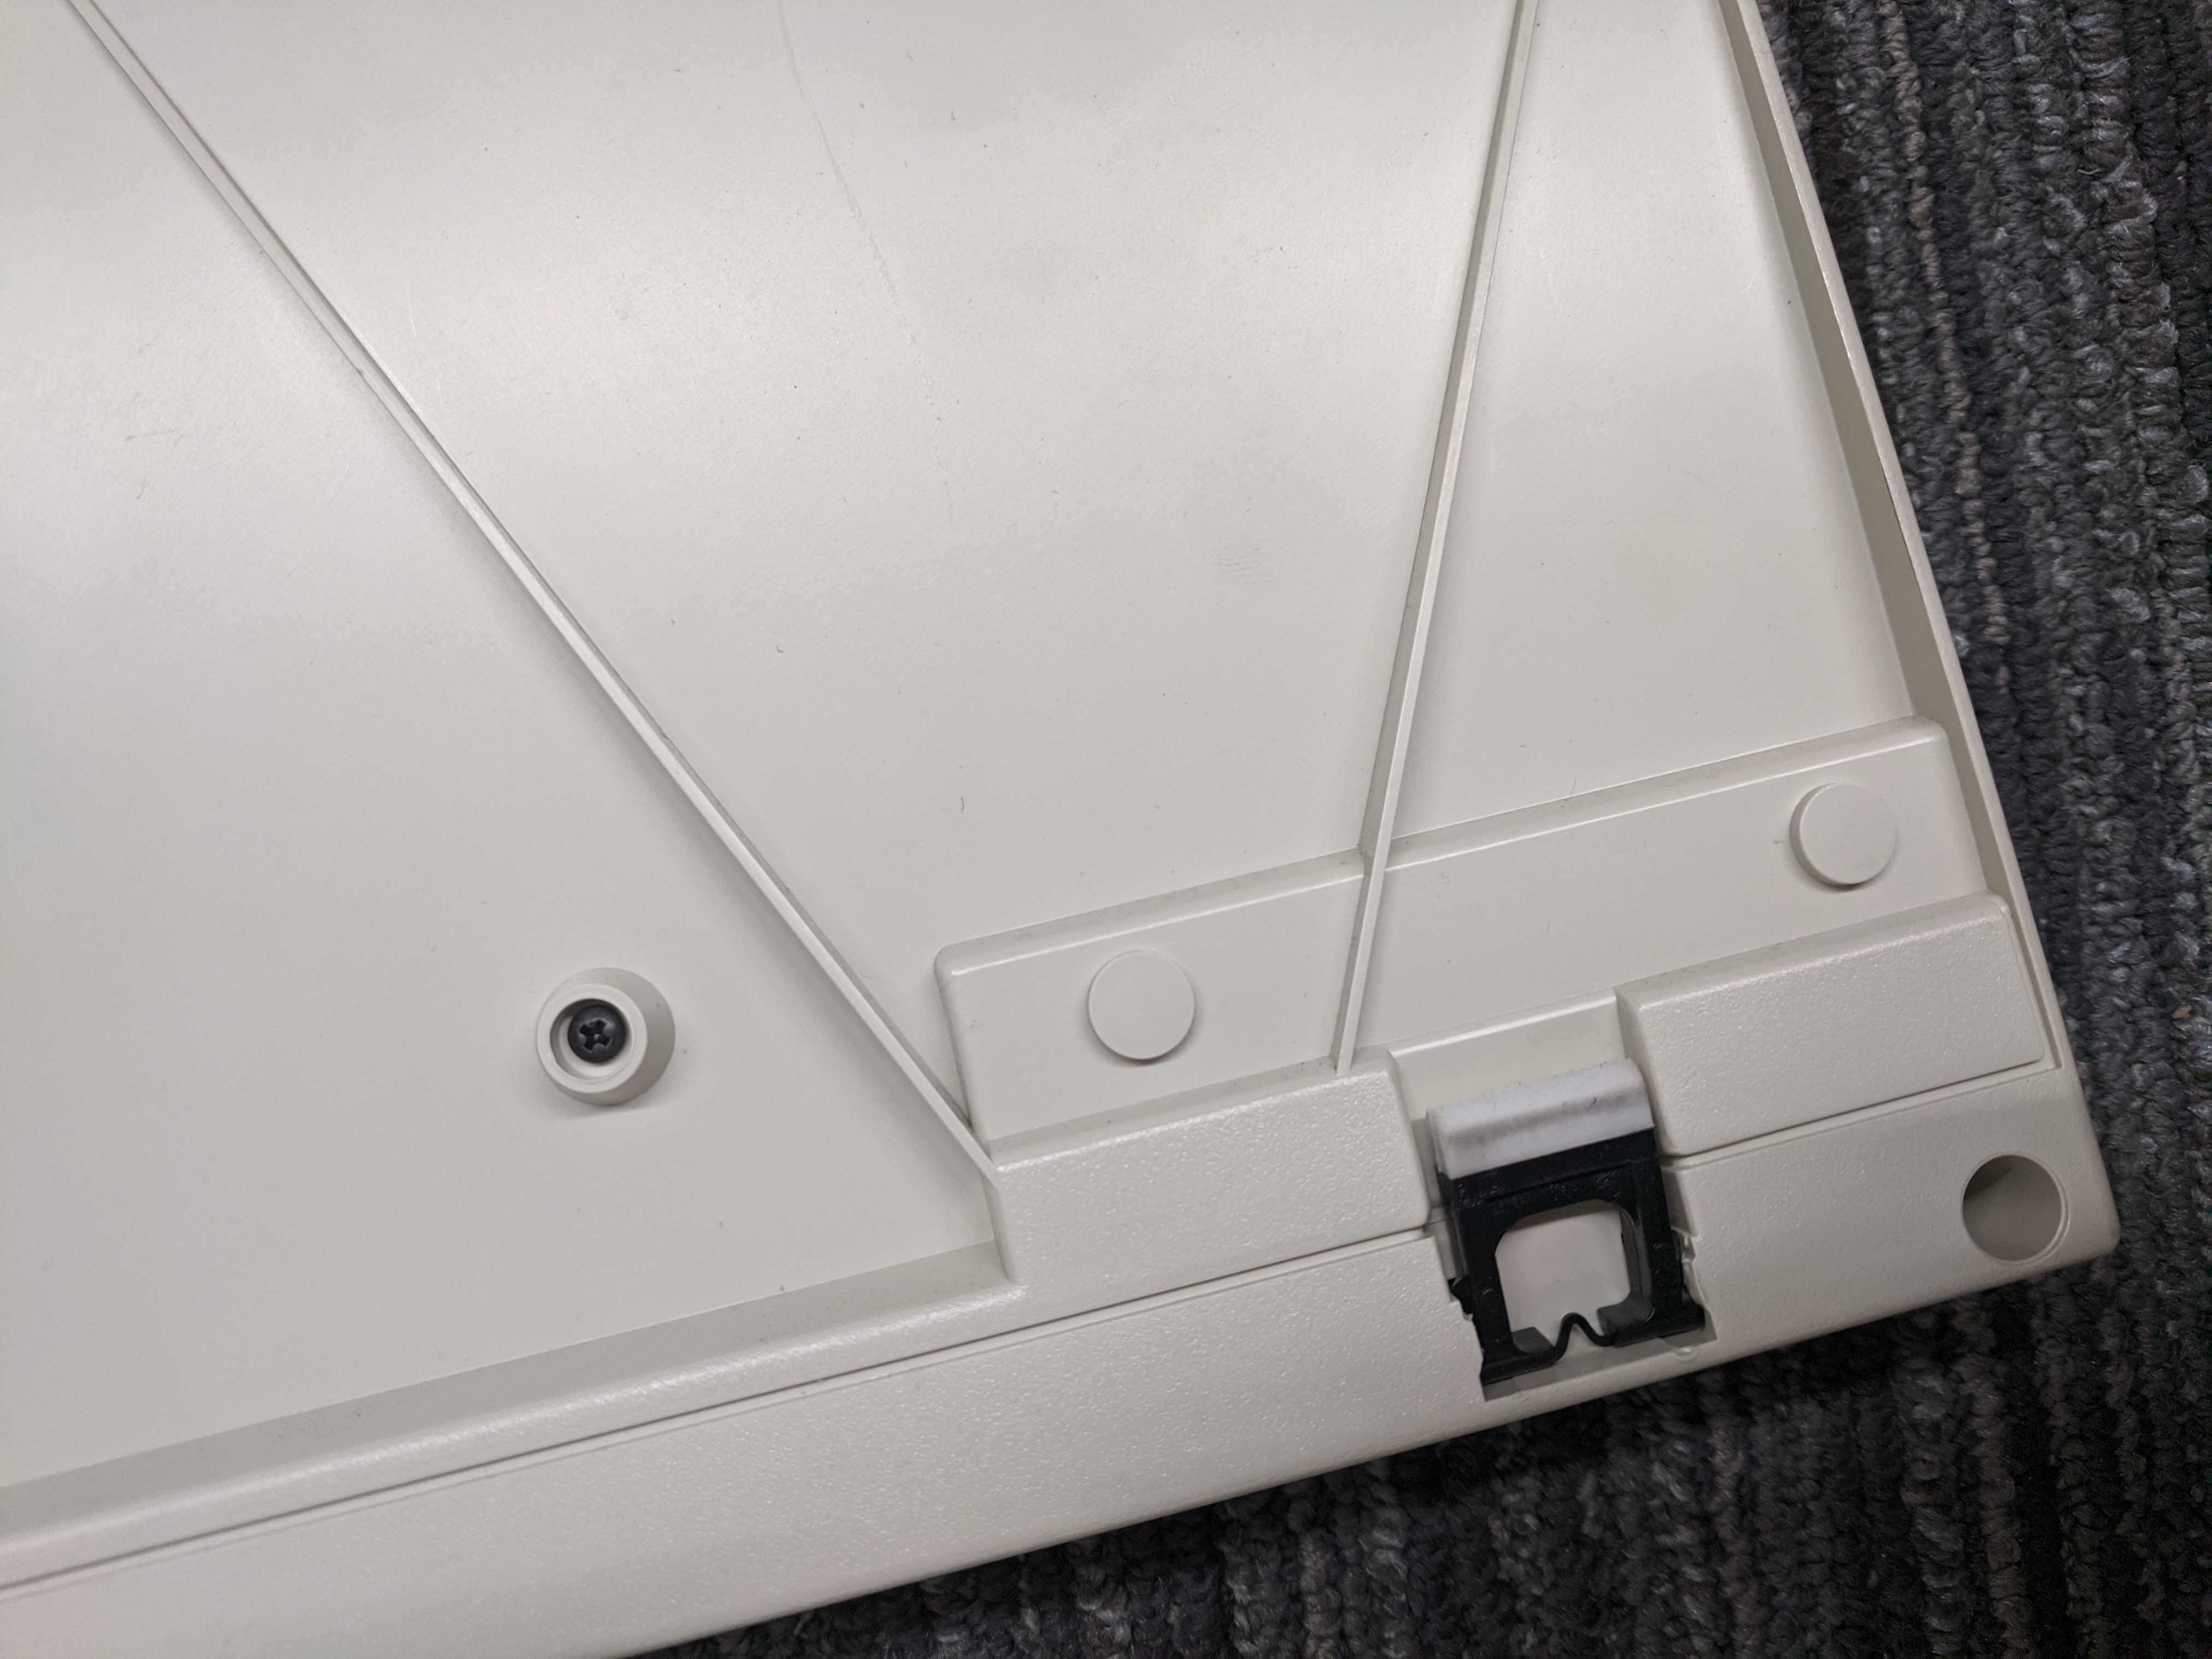cross_recessed_screw: (550, 1002, 634, 1068)
